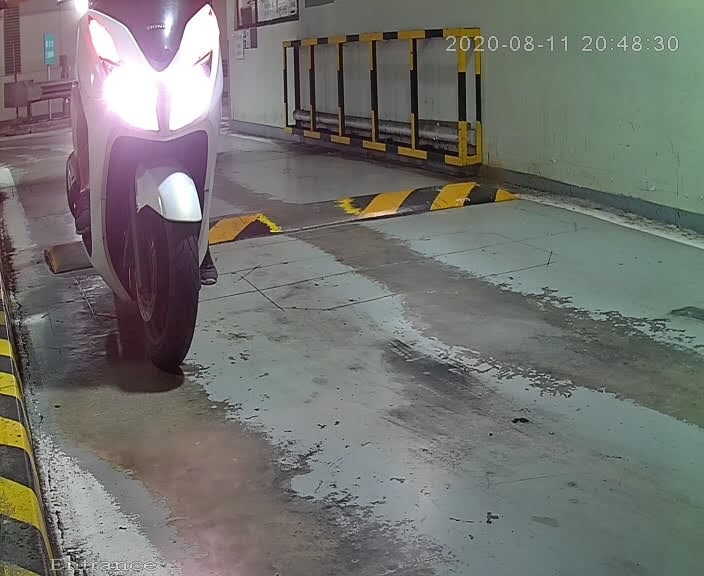motorcycle: (31, 1, 257, 387)
